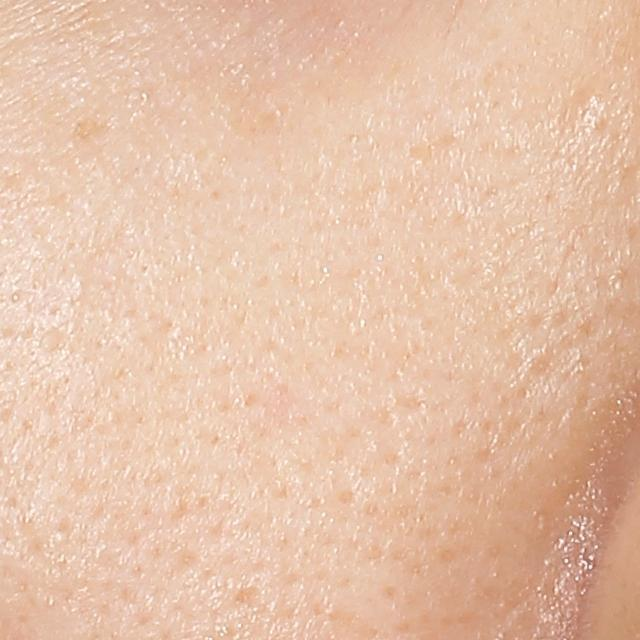comedo: (577, 84, 605, 112)
melasma: (52, 105, 126, 151)
